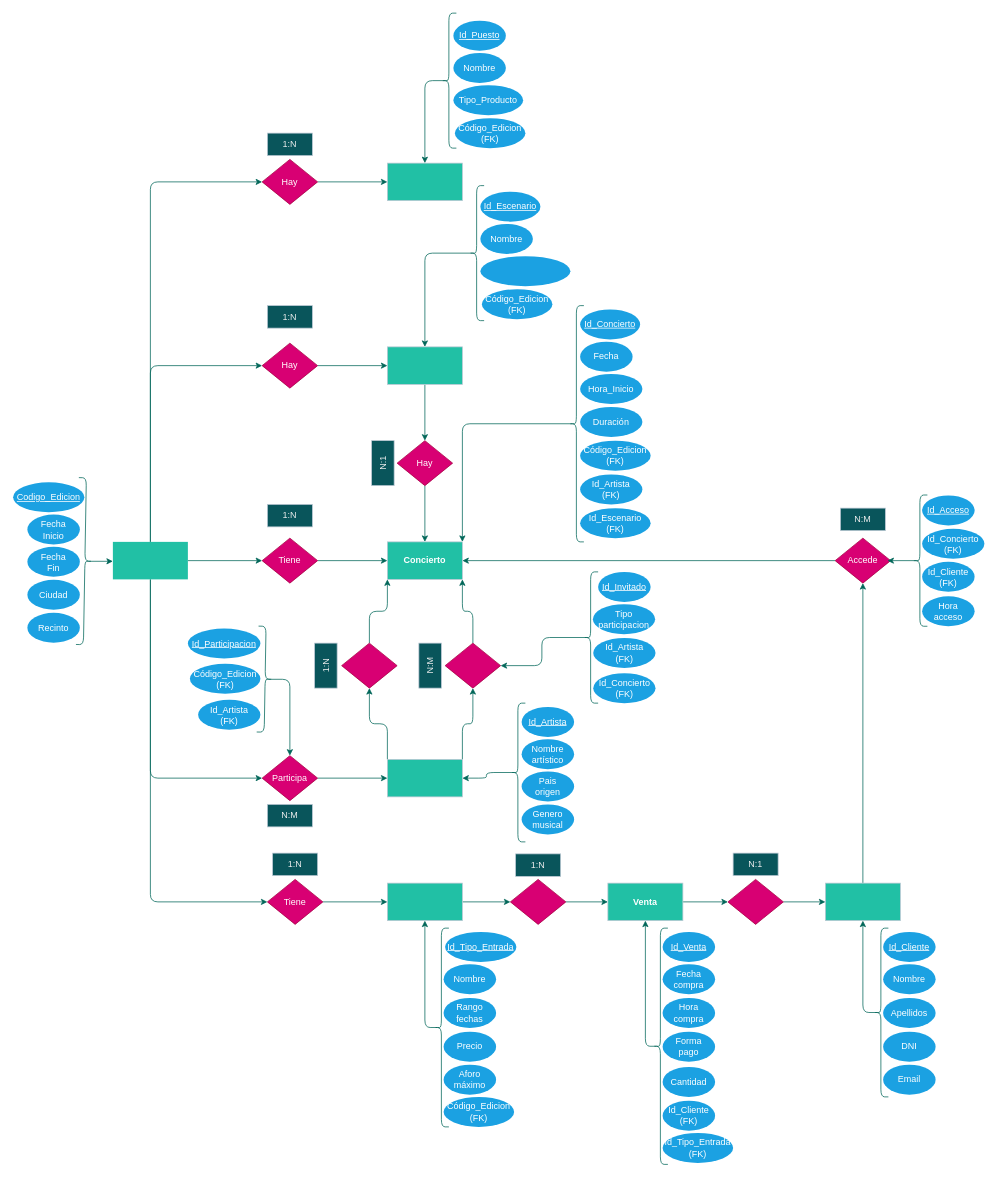
This 997x1178 diagram has some shape labels left out. The centre of each missing label's shape, as x and y in pixels:
"Actua Invitado" belongs at (472,665).
"Actua Principal" belongs at (369,665).
"Artistas" belongs at (424,778).
"Capacidad_Máxima" belongs at (525,271).
"Cliente" belongs at (862,901).
"Compra" belongs at (755,901).
"Edición" belongs at (150,560).
"Escenarios" belongs at (424,365).
"Puestos" belongs at (424,181).
"Realiza" belongs at (538,901).
"Tipo_Entrada" belongs at (424,901).
